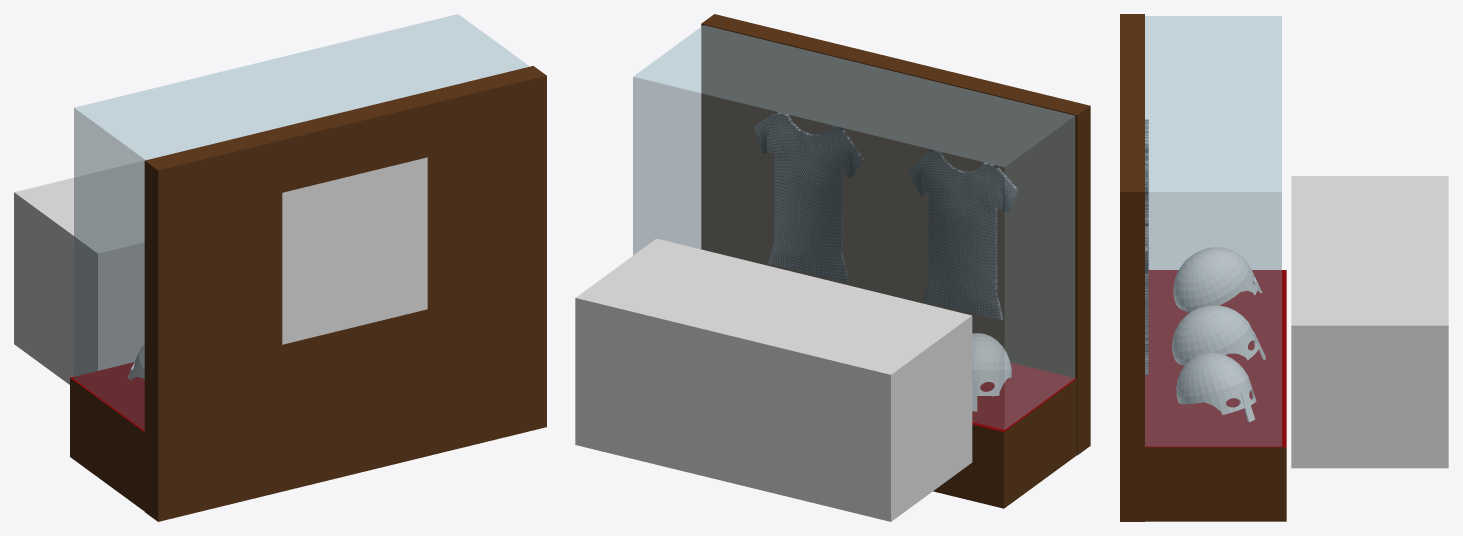
Rendered from montre_hjelme.gltf.
The picture shows the model from 3 angles, left to right: view 1: azimuth 30°, elevation 25°; view 2: azimuth 150°, elevation 25°; view 3: azimuth 270°, elevation 25°; orthographic projection. The views are drawn at different scales.
Visible parts, largest first — view 1: Cube.001, glass.001, front.zone, snap, Cube.006; view 2: glass.001, front.zone, Cube.001, Cube.006, Cube.002, Cube, helmut.002; view 3: glass.001, front.zone, Cube.006, Cube.001, helmut.002, helmut.001, helmut, Cube.
Boxes of the visible parts, <box> form: Cube.001: <box>144,66,546,521</box>; glass.001: <box>74,14,529,430</box>; front.zone: <box>14,113,337,384</box>; snap: <box>282,157,427,344</box>; Cube.006: <box>70,362,144,511</box>; glass.001: <box>633,25,1075,429</box>; front.zone: <box>575,238,972,521</box>; Cube.001: <box>701,14,1090,455</box>; Cube.006: <box>933,363,1076,508</box>; Cube.002: <box>908,149,1017,320</box>; Cube: <box>754,111,863,282</box>; helmut.002: <box>972,333,1011,411</box>; glass.001: <box>1145,16,1281,446</box>; front.zone: <box>1291,176,1448,468</box>; Cube.006: <box>1145,270,1286,521</box>; Cube.001: <box>1120,14,1144,521</box>; helmut.002: <box>1173,247,1262,312</box>; helmut.001: <box>1172,305,1265,365</box>; helmut: <box>1176,352,1256,422</box>; Cube: <box>1145,192,1148,374</box>.
Bounding box in the file's own units: 5.35 × 4.63 × 4.18.
5 materials, 1 textured.
